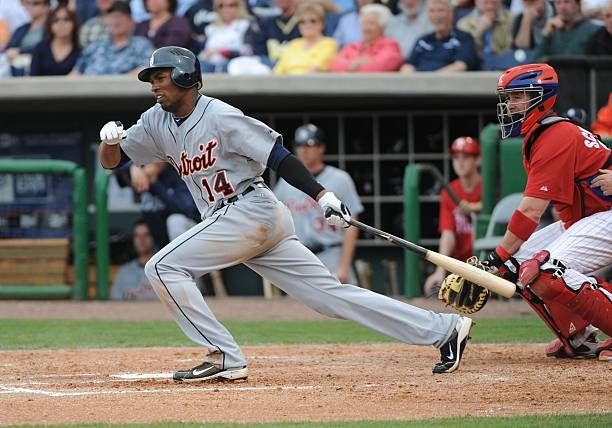bita: (337, 214, 522, 301)
